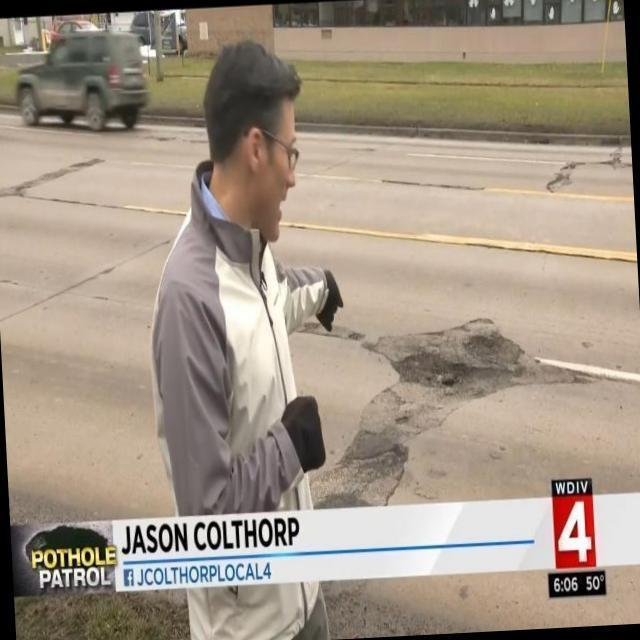pothole: (311, 284, 575, 510)
